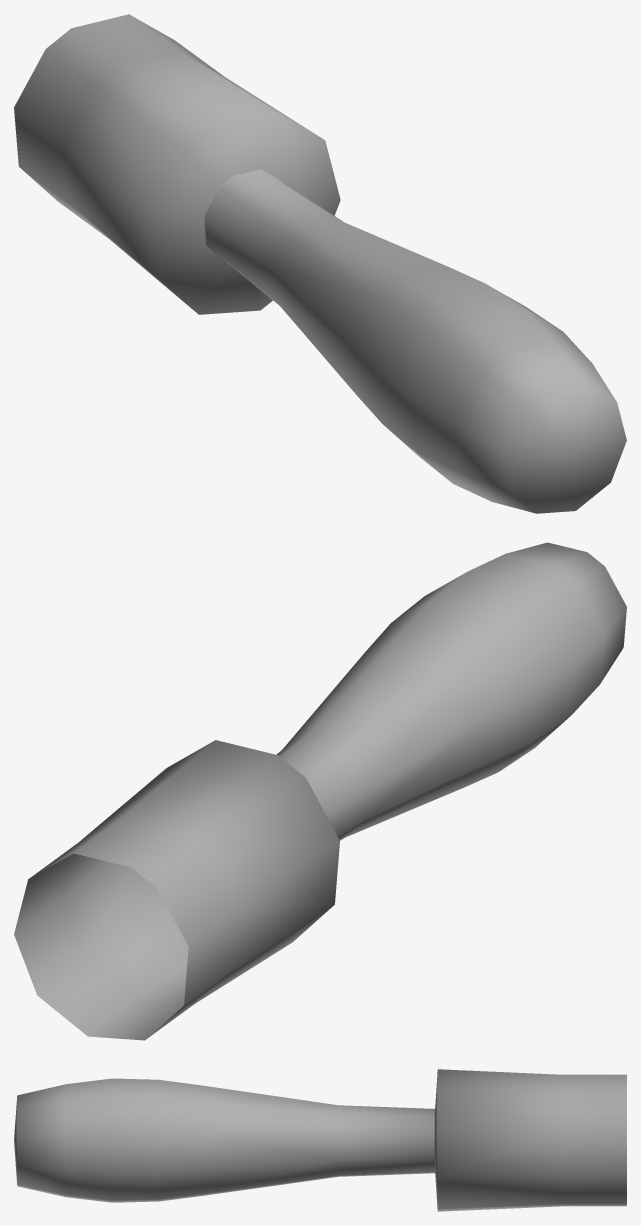
The model's file is SinkNob.fbx.
3 views of the same model, one above another, from view 1: azimuth 30°, elevation 25°; view 2: azimuth 150°, elevation 25°; view 3: azimuth 270°, elevation 25° (orthographic). The views are drawn at different scales.
Parts seen in each view (by area): view 1: SinkNob; view 2: SinkNob; view 3: SinkNob.
Part boxes in pixels (left/top/right/bottom): SinkNob: left=14, top=14, right=626, bottom=513; SinkNob: left=14, top=542, right=626, bottom=1040; SinkNob: left=14, top=1069, right=626, bottom=1211.
Size of the model in its own units: 3.46 by 3.4 by 14.82.
